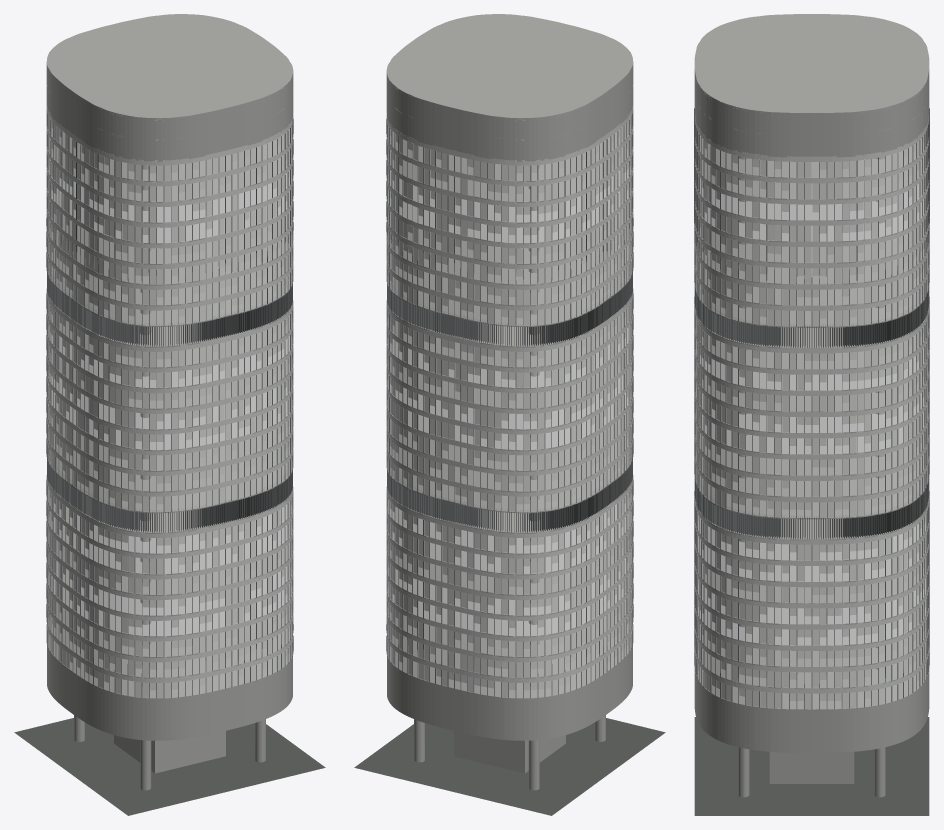
File: office_tower.optimized.glb
3 renders of one model, left to right at view 1: azimuth 30°, elevation 25°; view 2: azimuth 150°, elevation 25°; view 3: azimuth 270°, elevation 25°, orthographic. The views are drawn at different scales.
Visible parts, largest first — view 1: Web_OfficeConcrete, Office_Glass, Web_OfficeSpandrel, Office_Frosted_Curtains, Web_OfficeMullions, Office_Ground; view 2: Office_Glass, Web_OfficeConcrete, Web_OfficeSpandrel, Office_Frosted_Curtains, Web_OfficeMullions, Office_Ground; view 3: Web_OfficeConcrete, Office_Glass, Web_OfficeSpandrel, Office_Frosted_Curtains, Web_OfficeMullions, Office_Ground.
Boxes of the visible parts, x1,y1,x2,y2 form: Web_OfficeConcrete: (46, 14, 293, 790); Office_Glass: (47, 115, 292, 697); Web_OfficeSpandrel: (46, 106, 293, 682); Office_Frosted_Curtains: (48, 118, 292, 697); Web_OfficeMullions: (46, 110, 293, 698); Office_Ground: (14, 718, 325, 815); Office_Glass: (387, 115, 632, 697); Web_OfficeConcrete: (386, 14, 633, 790); Web_OfficeSpandrel: (386, 106, 633, 682); Office_Frosted_Curtains: (387, 118, 631, 697); Web_OfficeMullions: (386, 110, 633, 698); Office_Ground: (354, 718, 665, 815); Web_OfficeConcrete: (694, 14, 929, 797); Office_Glass: (695, 129, 928, 709); Web_OfficeSpandrel: (694, 113, 929, 693); Office_Frosted_Curtains: (695, 123, 928, 708); Web_OfficeMullions: (694, 108, 929, 709); Office_Ground: (694, 717, 929, 815).
Size of the model in its own units: 50.25 by 165 by 50.25.
Materials: 8 (8 with a texture image).
